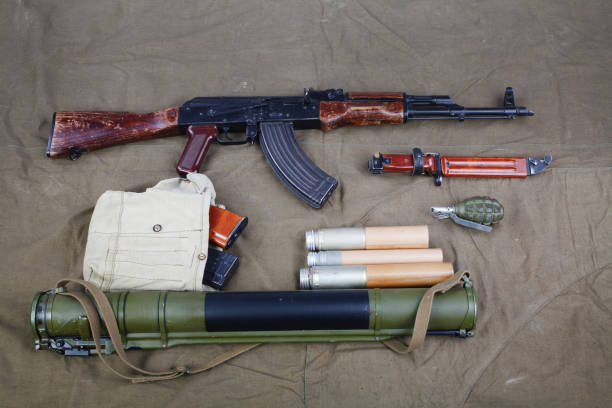e1: (430, 198, 507, 234)
